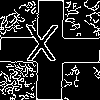X: (25, 25, 59, 71)
